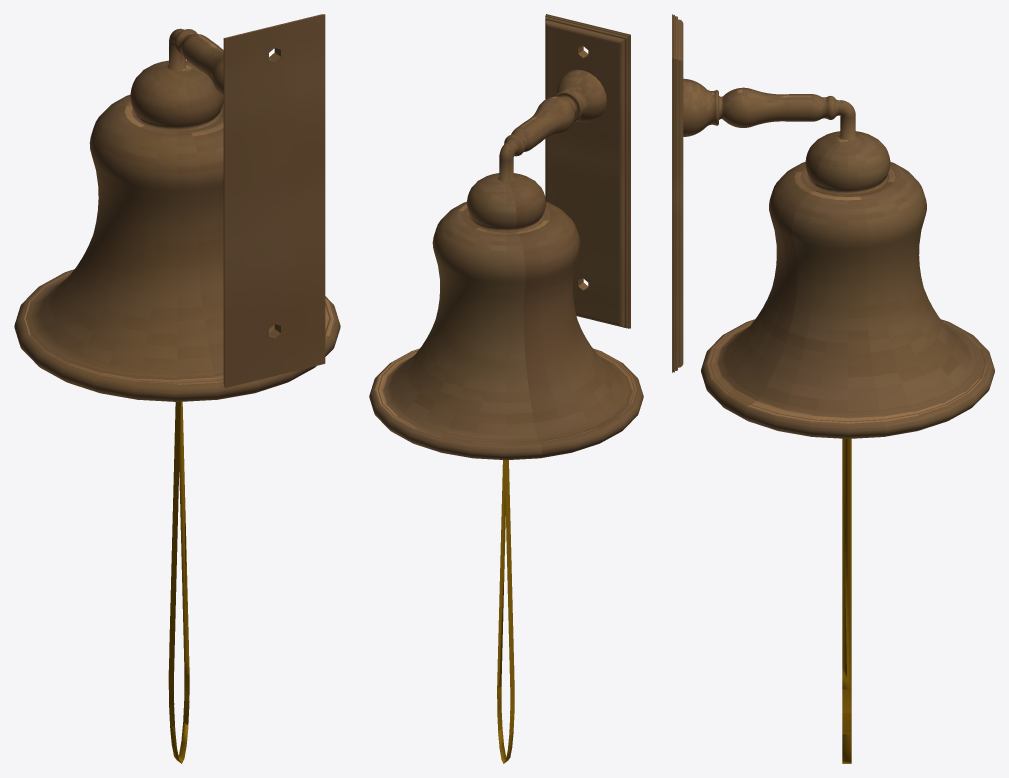
File: emergency bell.gltf
The picture shows the model from 3 angles, left to right: view 1: azimuth 30°, elevation 25°; view 2: azimuth 150°, elevation 25°; view 3: azimuth 270°, elevation 25°; orthographic projection. The views are drawn at different scales.
Parts seen in each view (by area): view 1: root; view 2: root; view 3: root.
Boxes of the visible parts, x1=… form: root: x1=14, y1=14, x2=340, y2=763; root: x1=369, y1=14, x2=643, y2=763; root: x1=672, y1=14, x2=994, y2=763.
Bounding box in the file's own units: 0.0651 × 0.1776 × 0.0715.
Materials: 2 (1 with a texture image).
